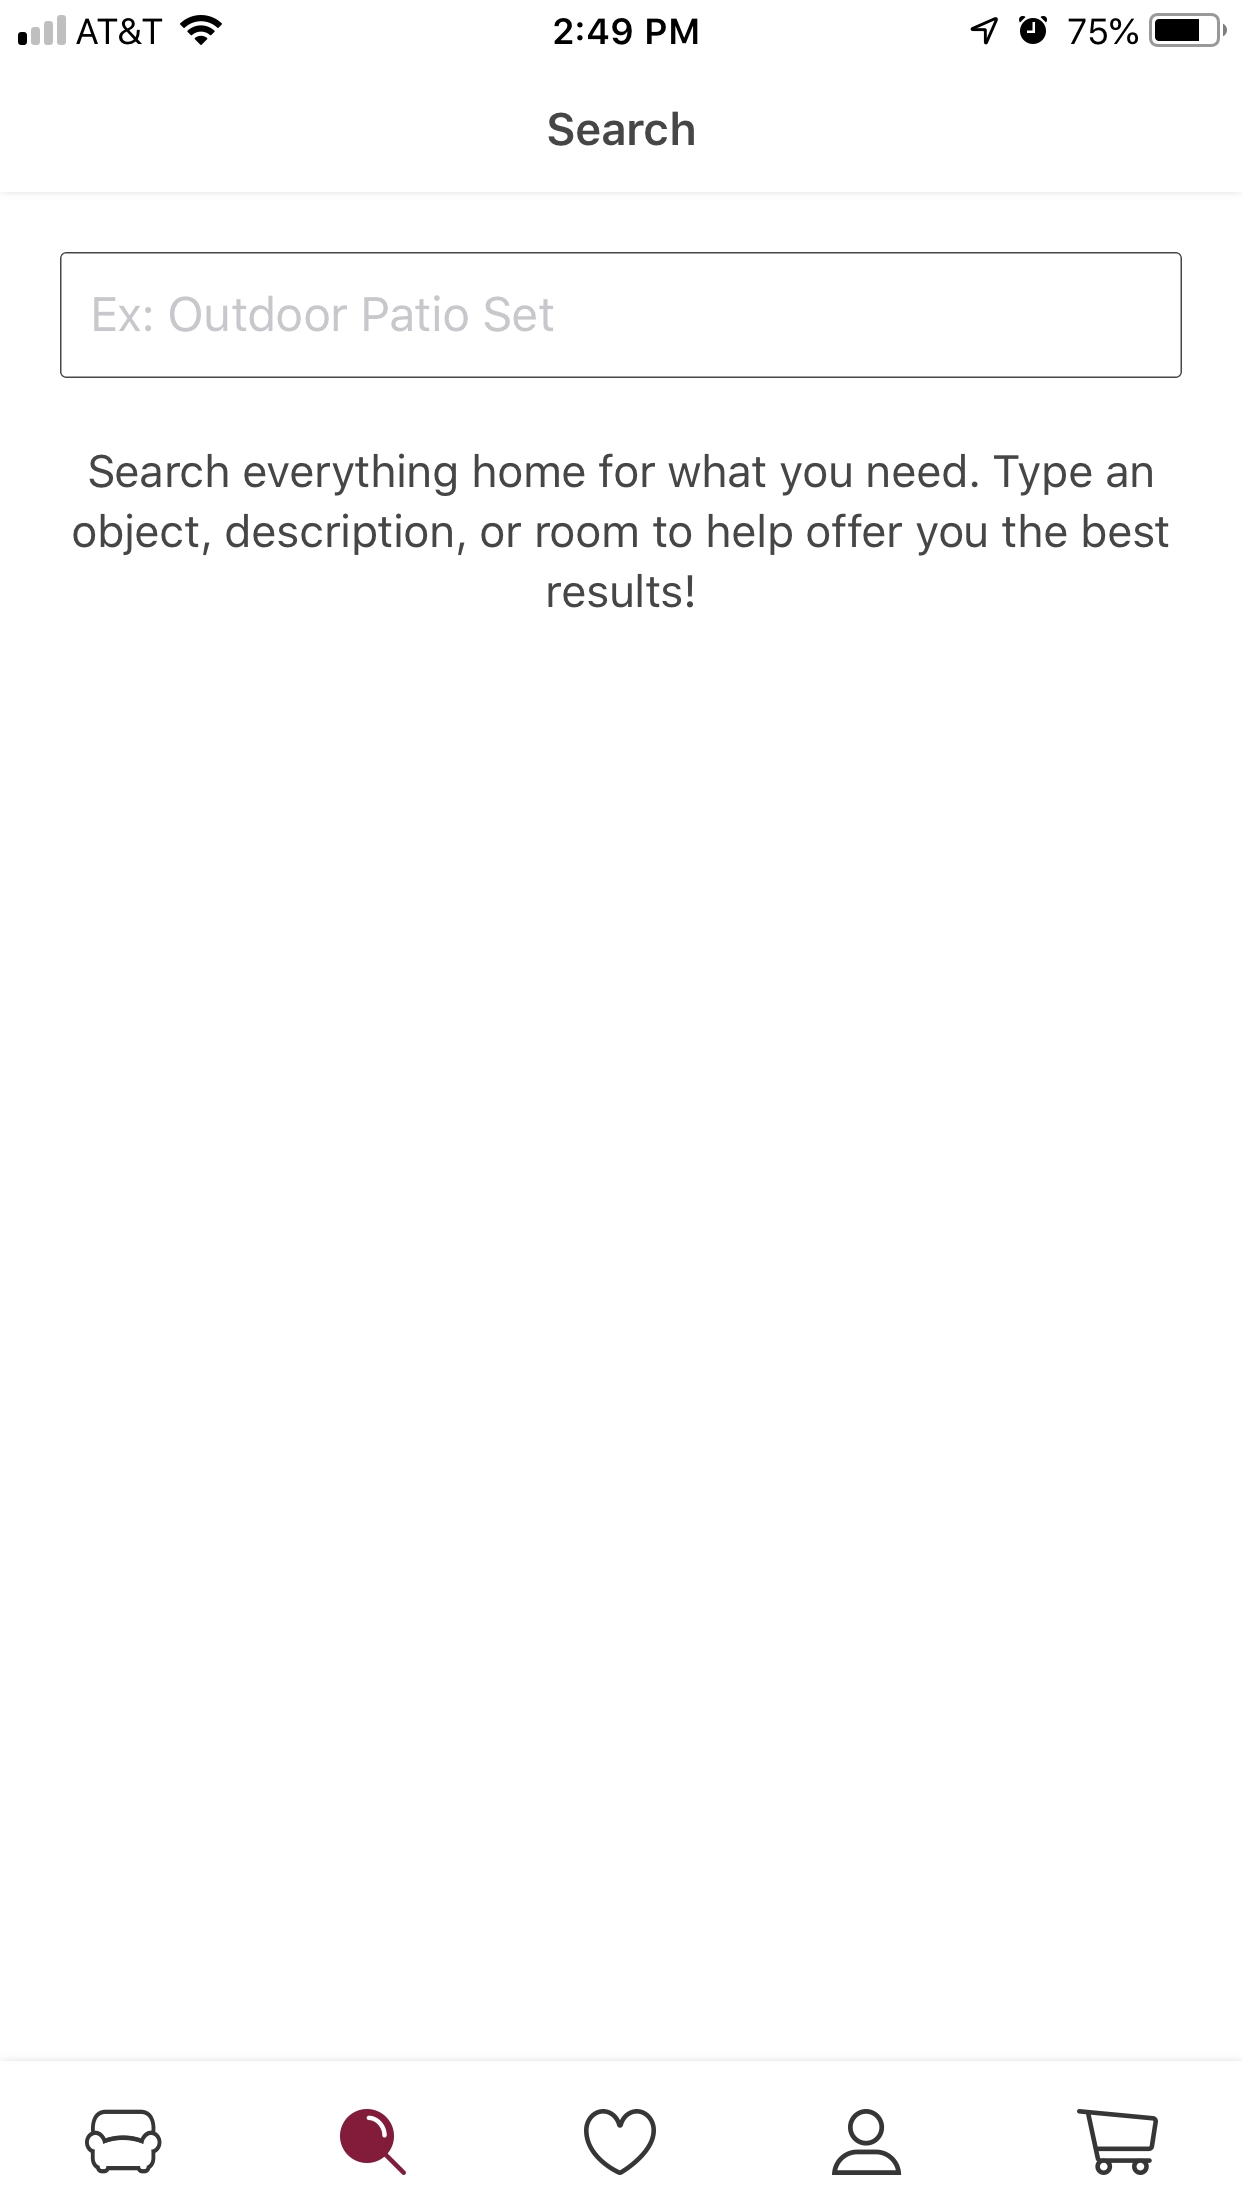EditText: (61, 252, 1181, 379)
Icon: (1077, 2108, 1159, 2176), (582, 2108, 657, 2176), (340, 2108, 408, 2176), (833, 2109, 902, 2176)
Image: (85, 2108, 162, 2175)
Text: (73, 453, 1169, 610), (94, 296, 554, 334), (547, 112, 695, 149)
UpperTaskBar: (2, 2, 1242, 49)
